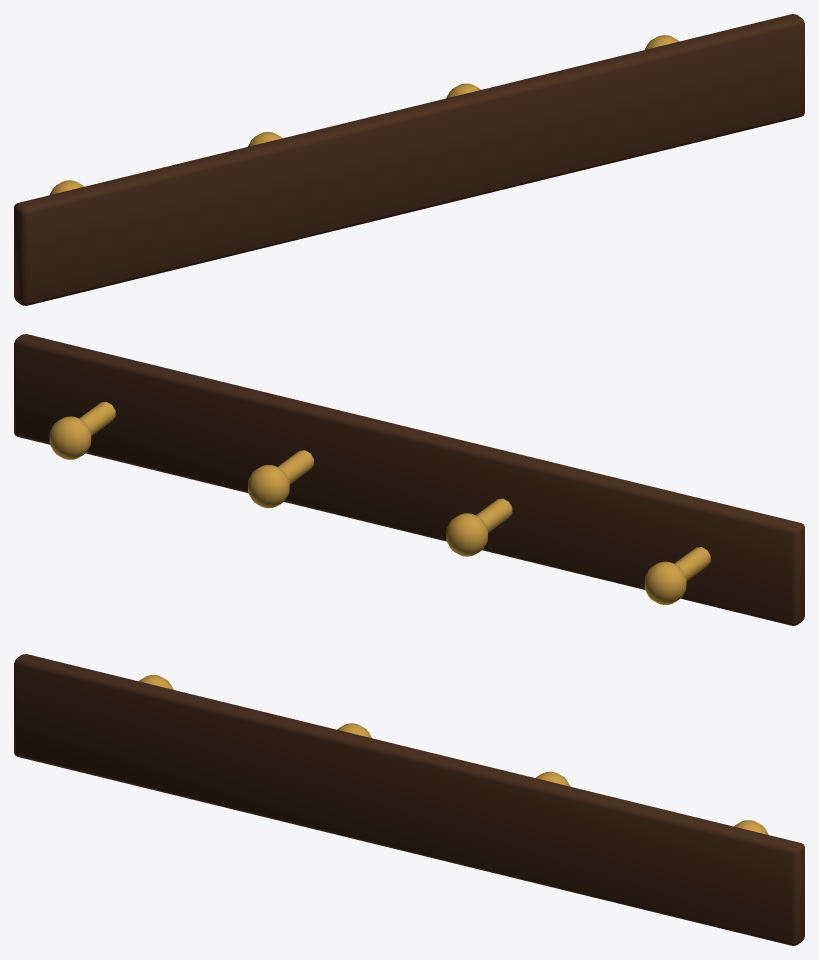
The model's file is Coat_Rack_Wall.glb.
The picture shows the model from 3 angles, top to bottom: view 1: azimuth 30°, elevation 25°; view 2: azimuth 150°, elevation 25°; view 3: azimuth 330°, elevation 25°; orthographic projection.
Parts seen in each view (by area): view 1: Coat_Rack_Wall; view 2: Coat_Rack_Wall; view 3: Coat_Rack_Wall.
Boxes of the visible parts, x1,y1,x2,y2 form: Coat_Rack_Wall: (14, 14, 804, 305); Coat_Rack_Wall: (14, 334, 804, 625); Coat_Rack_Wall: (14, 654, 804, 945).
Size of the model in its own units: 1 by 0.12 by 0.1284.
